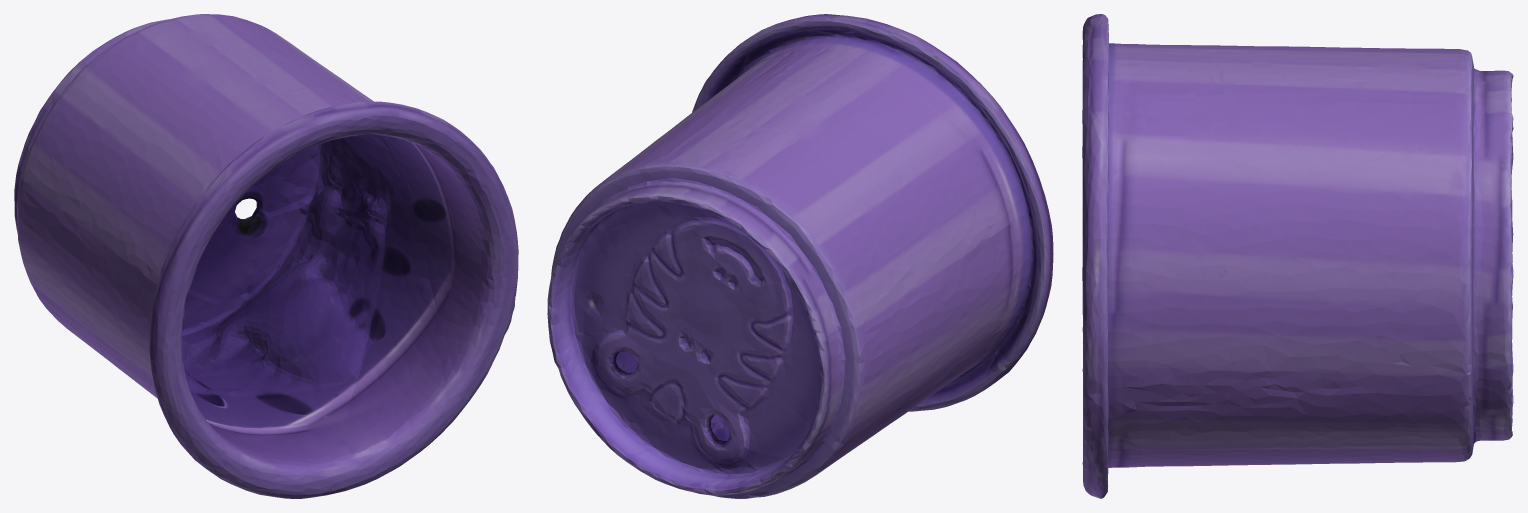
The model's file is f_cups.glb.
The picture shows the model from 3 angles, left to right: view 1: azimuth 30°, elevation 25°; view 2: azimuth 150°, elevation 25°; view 3: azimuth 270°, elevation 25°; orthographic projection. The views are drawn at different scales.
Parts seen in each view (by area): view 1: textured.obj; view 2: textured.obj; view 3: textured.obj.
Boxes of the visible parts, left/top/right/bottom form: textured.obj: left=14, top=14, right=518, bottom=498; textured.obj: left=547, top=14, right=1053, bottom=498; textured.obj: left=1082, top=14, right=1513, bottom=498.
Size of the model in its own units: 0.0804 by 0.0808 by 0.0721.
1 material, 1 textured.
